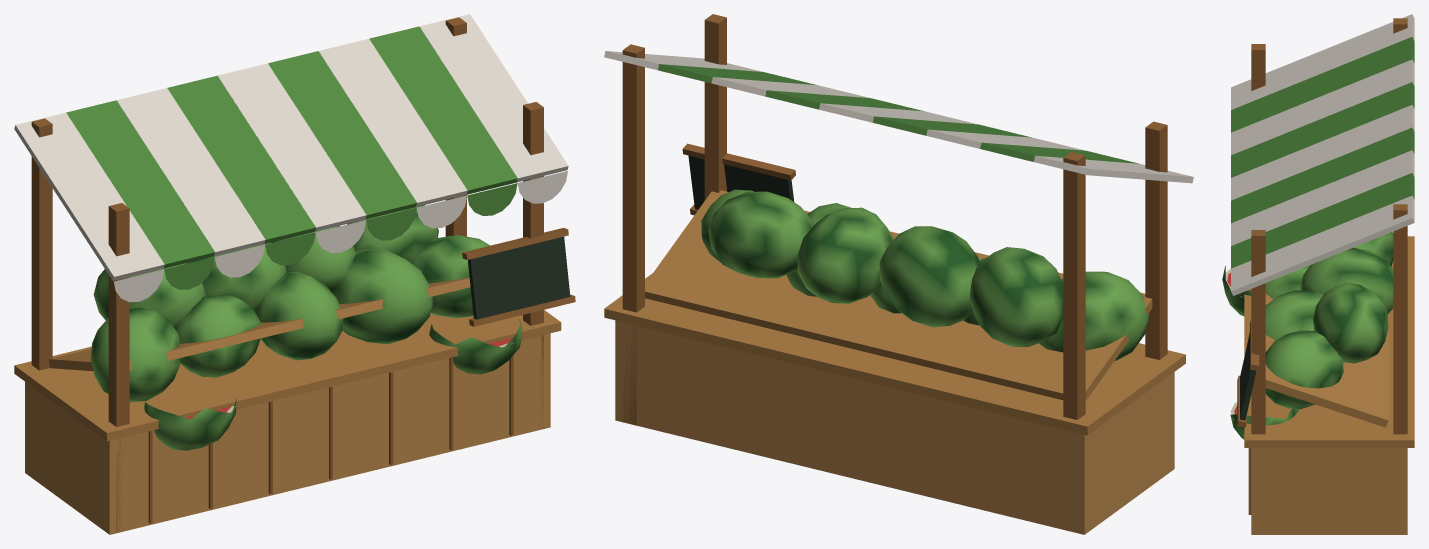
Rendered from melon_awning.glb.
The picture shows the model from 3 angles, left to right: view 1: azimuth 30°, elevation 25°; view 2: azimuth 150°, elevation 25°; view 3: azimuth 270°, elevation 25°; orthographic projection. The views are drawn at different scales.
Parts seen in each view (by area): view 1: decor-melon_awning; view 2: decor-melon_awning; view 3: decor-melon_awning.
Boxes of the visible parts, x1,y1,x2,y2 form: decor-melon_awning: [14, 14, 575, 534]; decor-melon_awning: [604, 14, 1193, 534]; decor-melon_awning: [1222, 14, 1414, 534].
Size of the model in its own units: 3.48 by 2.5 by 1.36.
